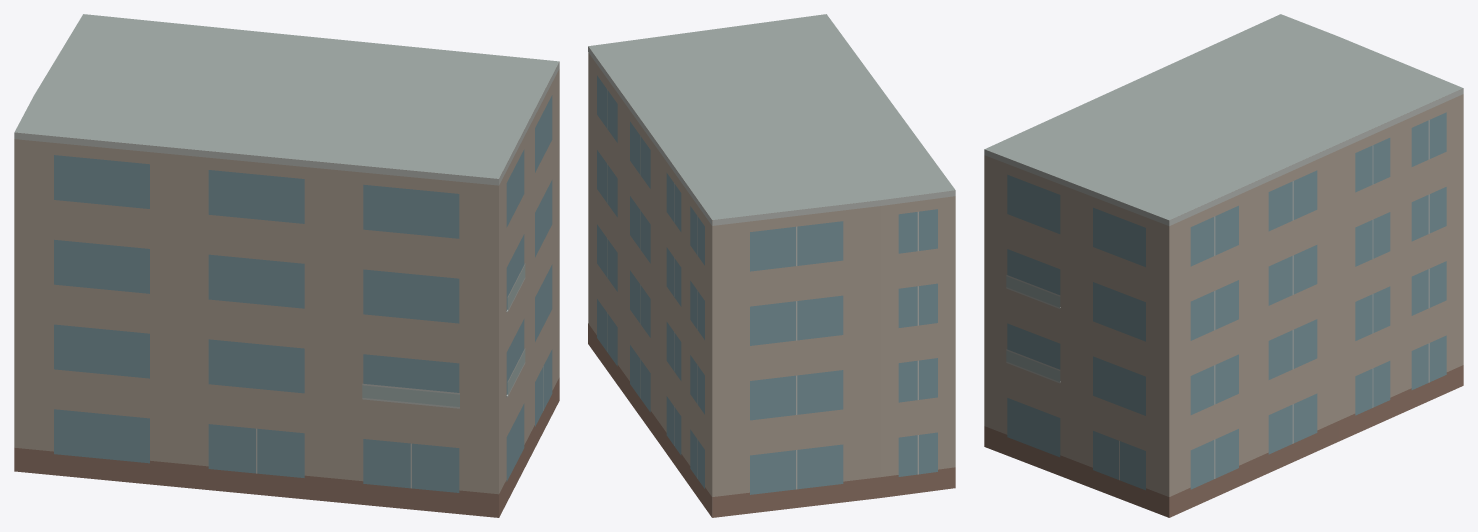
Rendered from survey-upis-32854426.glb.
3 renders of one model, left to right at view 1: azimuth 30°, elevation 25°; view 2: azimuth 150°, elevation 25°; view 3: azimuth 270°, elevation 25°, orthographic. The views are drawn at different scales.
Parts seen in each view (by area): view 1: survey-upis-32854426.tmp; view 2: survey-upis-32854426.tmp; view 3: survey-upis-32854426.tmp.
Part boxes in pixels (x1,y1,x2,y2): survey-upis-32854426.tmp: [14, 14, 559, 517]; survey-upis-32854426.tmp: [588, 14, 955, 517]; survey-upis-32854426.tmp: [984, 14, 1463, 517].
Size of the model in its own units: 18.53 by 12.45 by 18.18.
